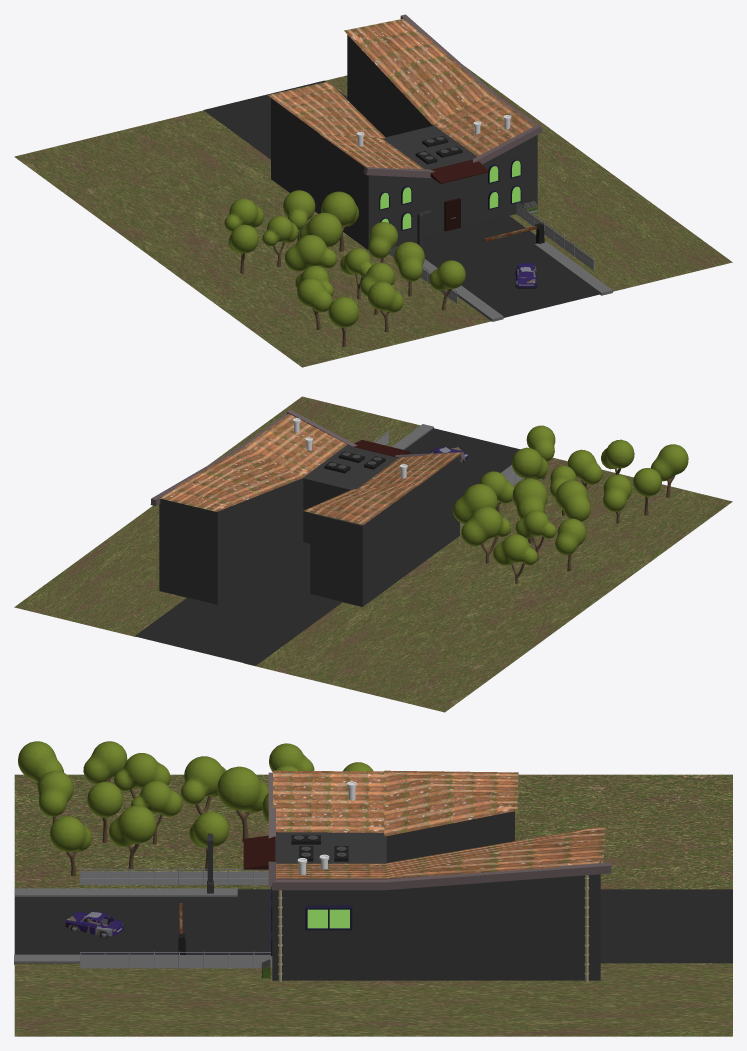
The model's file is zavod scene 1.fbx.
3 views of the same model, one above another, from view 1: azimuth 30°, elevation 25°; view 2: azimuth 150°, elevation 25°; view 3: azimuth 270°, elevation 25° (orthographic). The views are drawn at different scales.
Parts seen in each view (by area): view 1: Plane.003, Cube, Plane.002, Plane, Plane.005, Plane.006, Plane.007, Plane.004, Tree_3, Cube.003, Tree_4.004, Tree_4.006 (+16 smaller); view 2: Plane.003, Cube, Plane, Plane.002, Plane.005, Plane.007, Plane.006, Plane.004, Tree_3.003, Tree_3.004, Tree_3, Tree_4.003 (+13 smaller); view 3: Plane.002, Cube, Plane.003, Plane, Plane.006, Plane.004, Plane.005, Cube.017, Tree_4.003, Cube.019, Plane.007, Tree_3 (+15 smaller).
Part boxes in pixels (x1=…): Plane.003: x1=14, y1=110, x2=501, y2=367; Cube: x1=271, y1=19, x2=537, y2=250; Plane.002: x1=325, y1=66, x2=732, y2=291; Plane: x1=203, y1=80, x2=600, y2=320; Plane.005: x1=344, y1=18, x2=490, y2=124; Plane.006: x1=267, y1=81, x2=385, y2=138; Plane.007: x1=433, y1=93, x2=534, y2=156; Plane.004: x1=319, y1=134, x2=424, y2=169; Tree_3: x1=284, y1=235, x2=336, y2=271; Cube.003: x1=363, y1=124, x2=542, y2=178; Tree_4.004: x1=394, y1=241, x2=424, y2=296; Tree_4.006: x1=321, y1=191, x2=358, y2=251; Plane.003: x1=244, y1=457, x2=732, y2=712; Cube: x1=159, y1=445, x2=459, y2=606; Plane: x1=134, y1=428, x2=519, y2=665; Plane.002: x1=14, y1=396, x2=420, y2=636; Plane.005: x1=159, y1=446, x2=304, y2=511; Plane.007: x1=244, y1=414, x2=347, y2=476; Plane.006: x1=303, y1=485, x2=417, y2=524; Plane.004: x1=358, y1=452, x2=462, y2=488; Tree_3.003: x1=461, y1=507, x2=510, y2=563; Tree_3.004: x1=493, y1=534, x2=537, y2=583; Tree_3: x1=555, y1=480, x2=590, y2=521; Tree_4.003: x1=512, y1=478, x2=547, y2=543; Plane.002: x1=14, y1=963, x2=732, y2=1036; Cube: x1=272, y1=811, x2=600, y2=980; Plane.003: x1=14, y1=774, x2=732, y2=889; Plane: x1=14, y1=889, x2=732, y2=963; Plane.006: x1=384, y1=770, x2=518, y2=836; Plane.004: x1=272, y1=770, x2=384, y2=832; Plane.005: x1=386, y1=826, x2=606, y2=878; Cube.017: x1=272, y1=862, x2=611, y2=890; Tree_4.003: x1=217, y1=766, x2=268, y2=842; Cube.019: x1=15, y1=888, x2=237, y2=896; Plane.007: x1=276, y1=863, x2=388, y2=878; Tree_3: x1=181, y1=756, x2=226, y2=814.
Size of the model in its own units: 8674 by 1971 by 10057.
